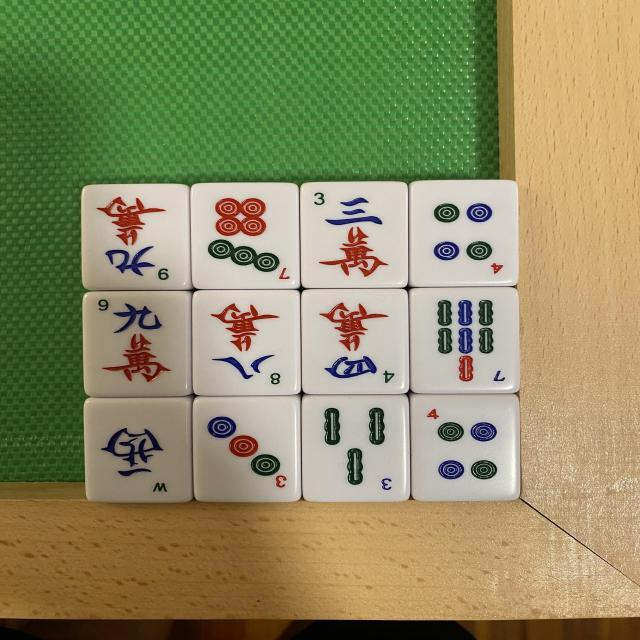hwe: (84, 397, 192, 503)
sb3: (308, 393, 413, 498)
sb7: (410, 284, 512, 391)
sc3: (302, 182, 408, 288)
sc4: (303, 289, 408, 395)
sc8: (196, 294, 300, 394)
sc9: (84, 286, 190, 395), (83, 188, 190, 295)
sd3: (194, 394, 302, 502)
sd4: (409, 185, 513, 283), (421, 397, 514, 497)
sd7: (188, 182, 296, 288)
